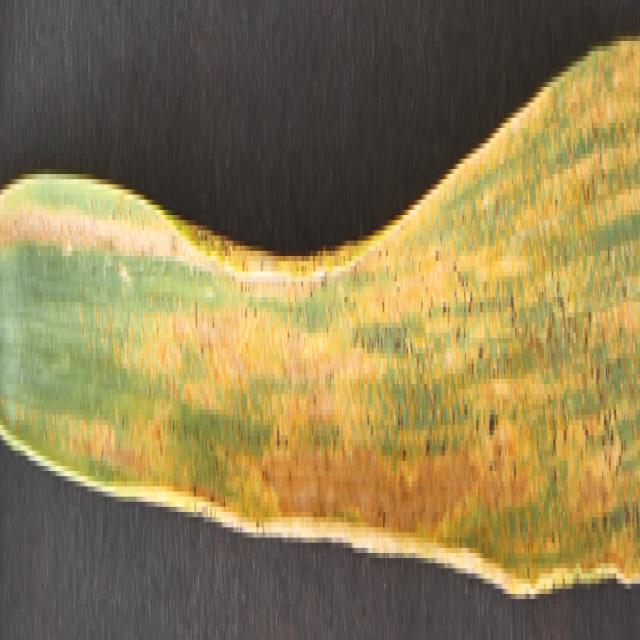leaf rust: (0, 5, 640, 578)
